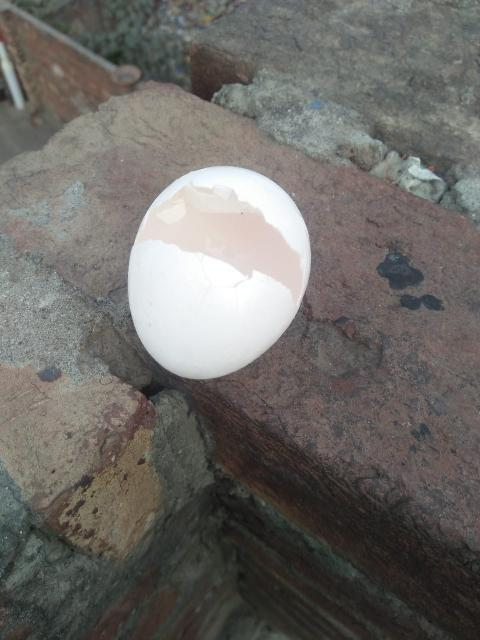Roto: (126, 164, 312, 380)
